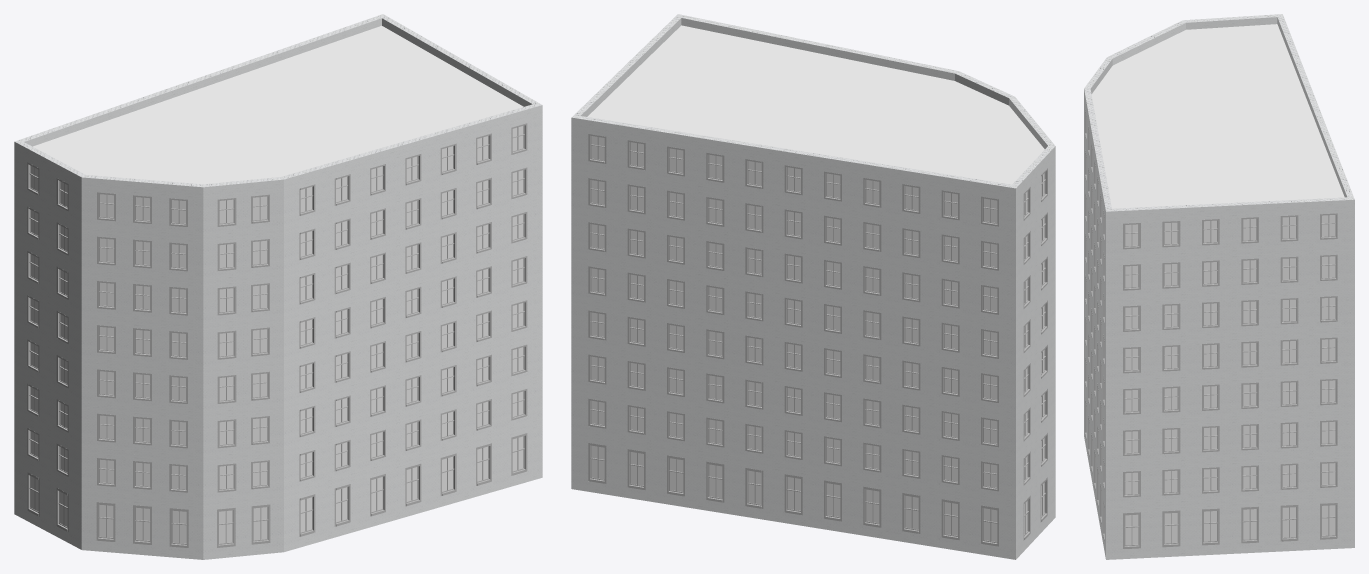
File: clohbjzi902mh4p02zah1t3e5_0.glb
The picture shows the model from 3 angles, left to right: view 1: azimuth 30°, elevation 25°; view 2: azimuth 150°, elevation 25°; view 3: azimuth 270°, elevation 25°; orthographic projection. The views are drawn at different scales.
Visible parts, largest first — view 1: mesh_Brick, mesh_CityEnginePBRShader, mesh_Rim, mesh_Glass; view 2: mesh_Brick, mesh_CityEnginePBRShader, mesh_Rim, mesh_Glass; view 3: mesh_Brick, mesh_CityEnginePBRShader, mesh_Rim, mesh_Glass.
Boxes of the visible parts, bbox=[...] form: mesh_Brick: bbox=[14, 14, 542, 559]; mesh_CityEnginePBRShader: bbox=[33, 25, 523, 184]; mesh_Rim: bbox=[27, 123, 527, 547]; mesh_Glass: bbox=[31, 126, 523, 543]; mesh_Brick: bbox=[571, 14, 1055, 559]; mesh_CityEnginePBRShader: bbox=[587, 25, 1044, 184]; mesh_Rim: bbox=[588, 134, 1047, 546]; mesh_Glass: bbox=[591, 136, 1044, 541]; mesh_Brick: bbox=[1084, 14, 1354, 559]; mesh_CityEnginePBRShader: bbox=[1091, 24, 1344, 208]; mesh_Rim: bbox=[1085, 109, 1337, 548]; mesh_Glass: bbox=[1125, 215, 1335, 545].
Bounding box in the file's own units: 36.36 × 29.86 × 21.04.
Materials: 4 (1 with a texture image).
